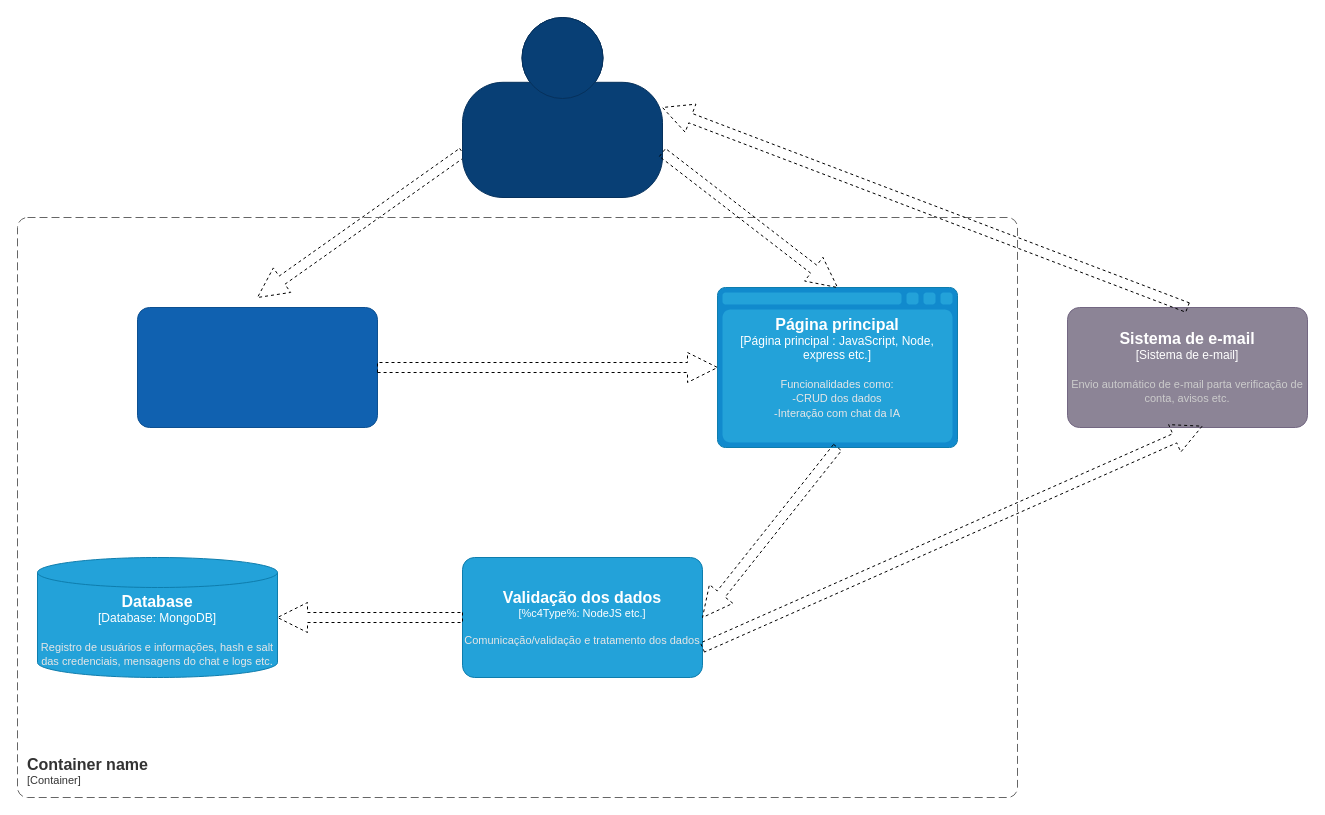
Image size: 1325x815. Some labels were removed from this diagram. The box of each missing label's shape, as (x1, y1, x2, y2) in pixels:
Aplicação web [] Enviar ao usuário a página principal do projeto: (136, 306, 378, 428)
conta pessoal do cliente [Person] conta pessoal do usuário: (462, 16, 662, 198)
